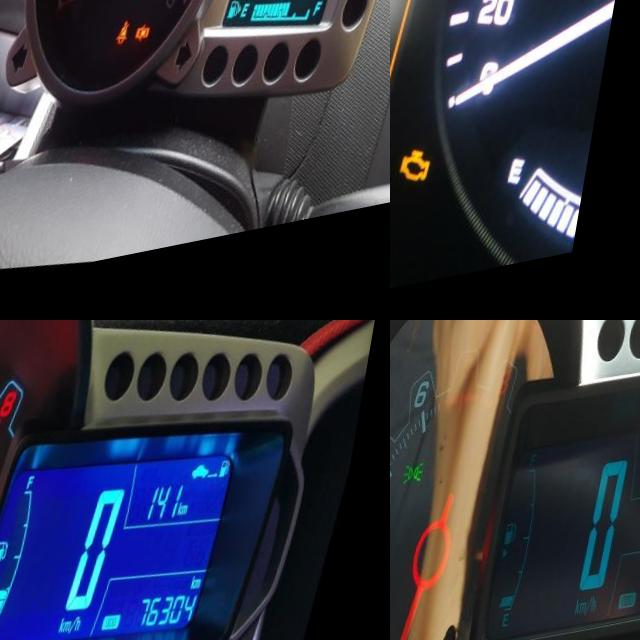Doors: (146, 32, 166, 57)
SideLamp: (411, 467, 434, 493)
